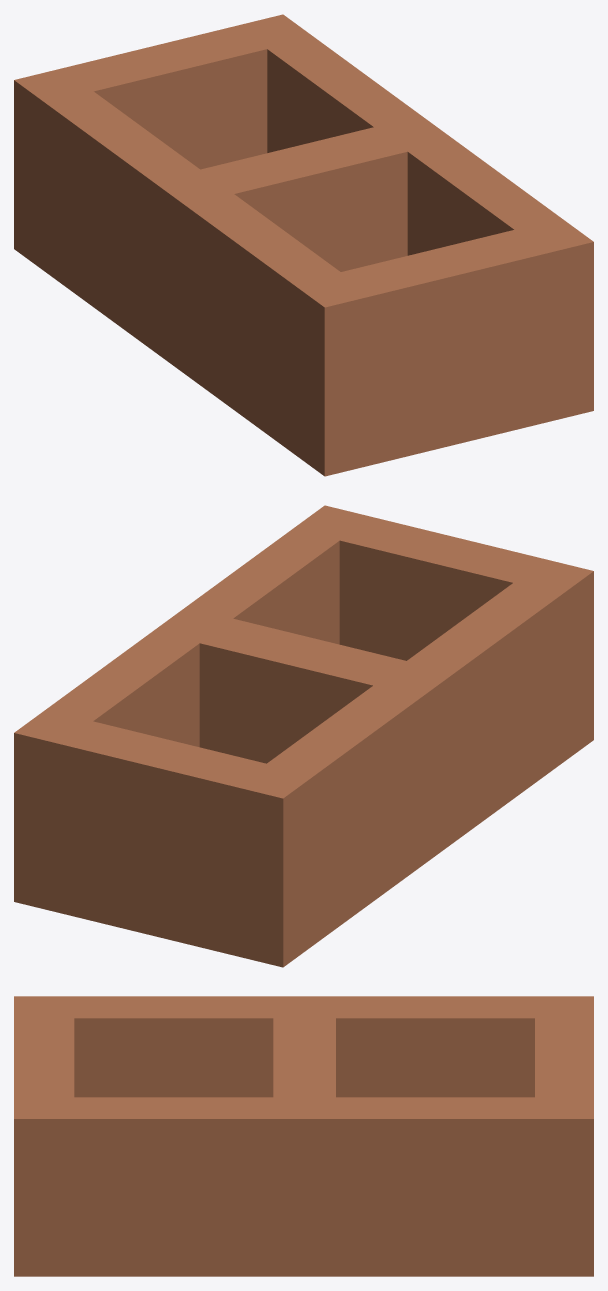
Rendered from Brick2.FBX.
3 renders of one model, top to bottom at view 1: azimuth 30°, elevation 25°; view 2: azimuth 150°, elevation 25°; view 3: azimuth 270°, elevation 25°, orthographic. The views are drawn at different scales.
Parts seen in each view (by area): view 1: Brick2; view 2: Brick2; view 3: Brick2.
Boxes of the visible parts, x1=… form: Brick2: x1=14, y1=14, x2=593, y2=476; Brick2: x1=14, y1=505, x2=593, y2=967; Brick2: x1=14, y1=996, x2=593, y2=1276.
Size of what is drawn, in the model's own units: 29.53 by 59.06 by 17.72.
